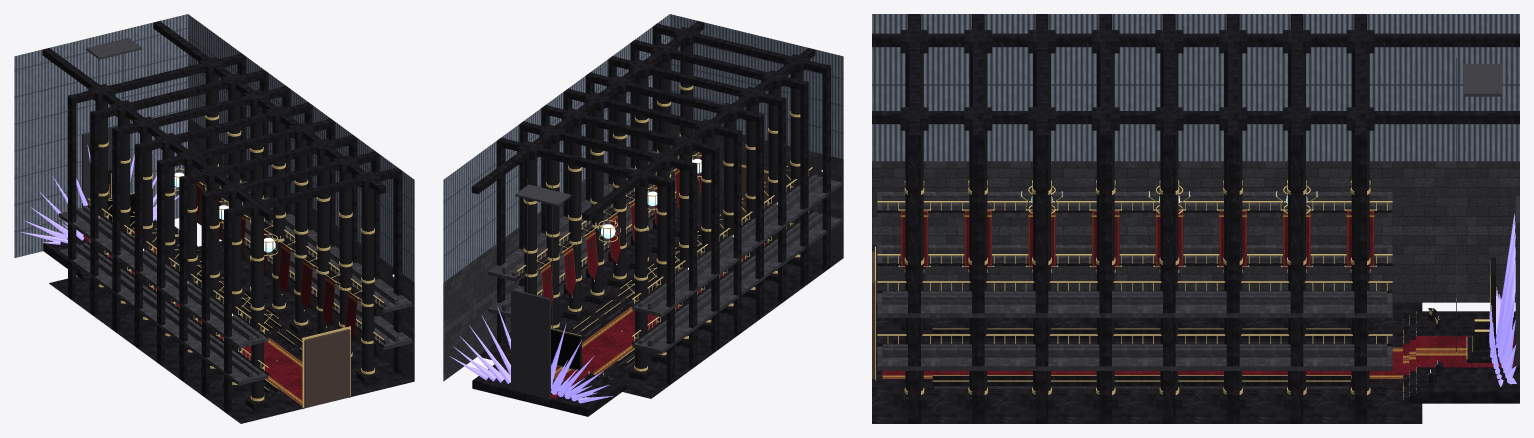
Rendered from throne_hall.glb.
3 views of the same model, side by side, from view 1: azimuth 30°, elevation 25°; view 2: azimuth 150°, elevation 25°; view 3: azimuth 270°, elevation 25° (orthographic). The views are drawn at different scales.
Parts seen in each view (by area): view 1: Walls, Ceiling, Galleries, Floor, Column_16, Column_15, Column_10, Column_14, Column_8, Column_12, Column_3, Column_7 (+15 smaller); view 2: Walls, Ceiling, Galleries, Floor, Dais, Column_1, Crystal_Wings, Column_6, Column_4, Column_8, Column_10, Column_2 (+17 smaller); view 3: Walls, Galleries, Ceiling, Floor, BENCHES, Dais, Crystal_Wings, Column_8, Column_2, Column_6, Column_10, Column_14 (+17 smaller).
Part boxes in pixels (box(x1,y1,x2,y2)): Walls: box(14, 14, 414, 414); Ceiling: box(42, 21, 400, 221); Galleries: box(59, 175, 412, 385); Floor: box(49, 241, 413, 423); Column_16: box(355, 171, 381, 383); Column_15: box(244, 198, 270, 410); Column_10: box(288, 122, 314, 334); Column_14: box(332, 154, 358, 364); Column_8: box(266, 106, 292, 318); Column_12: box(310, 138, 336, 336); Column_3: box(110, 100, 136, 312); Column_7: box(155, 133, 181, 345); Walls: box(443, 14, 843, 406); Ceiling: box(471, 21, 828, 221); Galleries: box(488, 145, 841, 354); Floor: box(480, 217, 843, 398); Dais: box(472, 354, 628, 416); Column_1: box(628, 168, 654, 380); Crystal_Wings: box(449, 307, 613, 403); Column_6: box(562, 108, 588, 320); Column_4: box(539, 125, 565, 330); Column_8: box(584, 92, 610, 304); Column_10: box(606, 76, 632, 288); Column_2: box(517, 141, 543, 295); Walls: box(872, 14, 1519, 423); Galleries: box(877, 192, 1392, 370); Ceiling: box(872, 14, 1519, 143); Floor: box(872, 302, 1422, 423); BENCHES: box(932, 328, 1350, 389); Dais: box(1403, 311, 1519, 403); Crystal_Wings: box(1489, 213, 1516, 387); Column_8: box(1155, 107, 1183, 407); Column_2: box(1346, 107, 1374, 407); Column_6: box(1219, 107, 1246, 407); Column_10: box(1092, 107, 1119, 407); Column_14: box(964, 107, 991, 407).
Bounding box in the file's own units: 27 × 30.2 × 61.
Materials: 16 (5 with a texture image).
